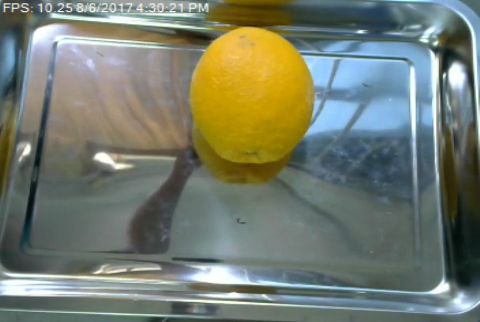Orange: (188, 27, 313, 164)
